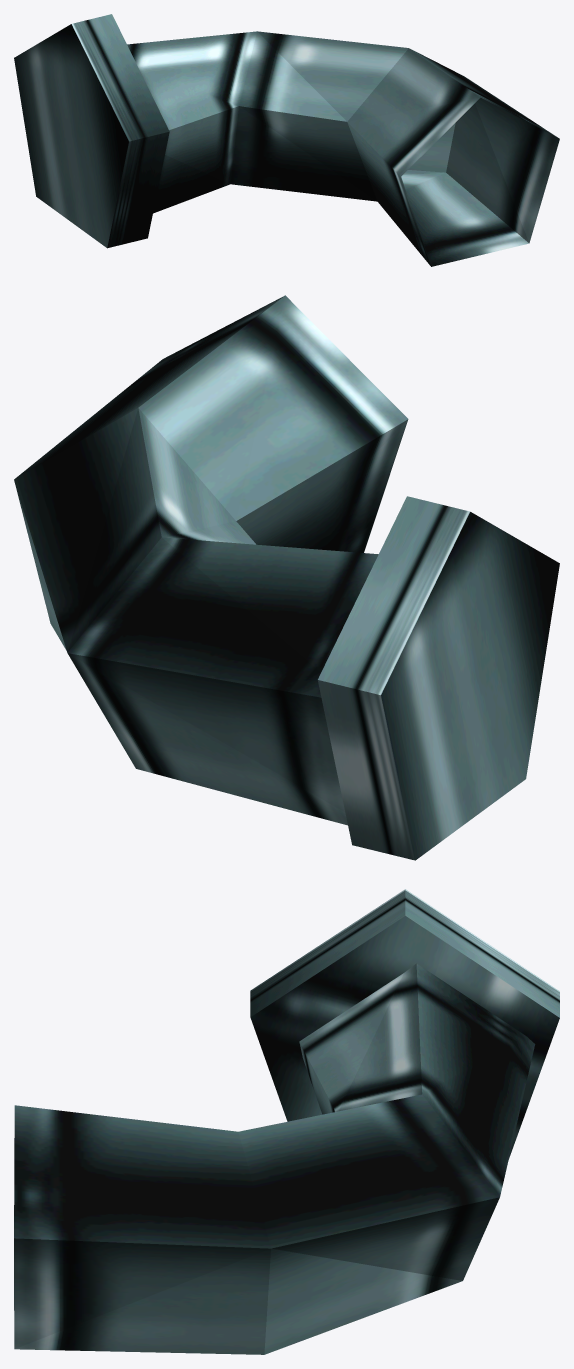
The model's file is Rohr_StückKurveDünn_1443.glb.
3 views of the same model, one above another, from view 1: azimuth 30°, elevation 25°; view 2: azimuth 150°, elevation 25°; view 3: azimuth 270°, elevation 25° (orthographic). The views are drawn at different scales.
Parts seen in each view (by area): view 1: pCylinderShape75, pCylinderShape76; view 2: pCylinderShape75, pCylinderShape76; view 3: pCylinderShape75, pCylinderShape76.
Part boxes in pixels (x1,y1,x2,y2): pCylinderShape75: (127,31,559,266); pCylinderShape76: (14,14,169,248); pCylinderShape75: (14,295,408,825); pCylinderShape76: (318,496,559,860); pCylinderShape75: (14,963,535,1354); pCylinderShape76: (250,889,559,1159).
Size of the model in its own units: 0.8219 by 0.4542 by 0.8416.
2 materials, 2 textured.
